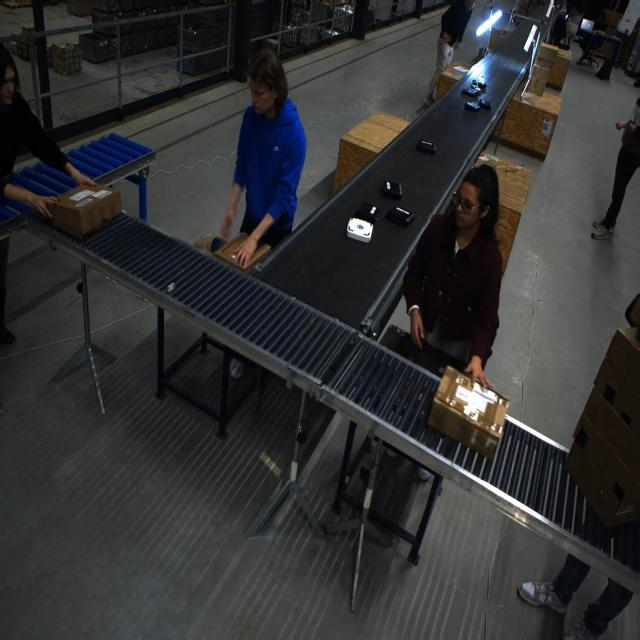box: (564, 399, 638, 529), (427, 365, 506, 456), (590, 344, 638, 432), (49, 184, 123, 238), (211, 232, 272, 273), (524, 75, 547, 97), (528, 63, 551, 83), (536, 42, 558, 62)
product: (346, 216, 373, 243), (385, 205, 414, 228), (354, 202, 378, 223), (380, 180, 402, 200), (416, 139, 437, 155), (461, 88, 480, 98), (464, 101, 480, 111), (478, 98, 491, 110), (472, 79, 487, 89)
